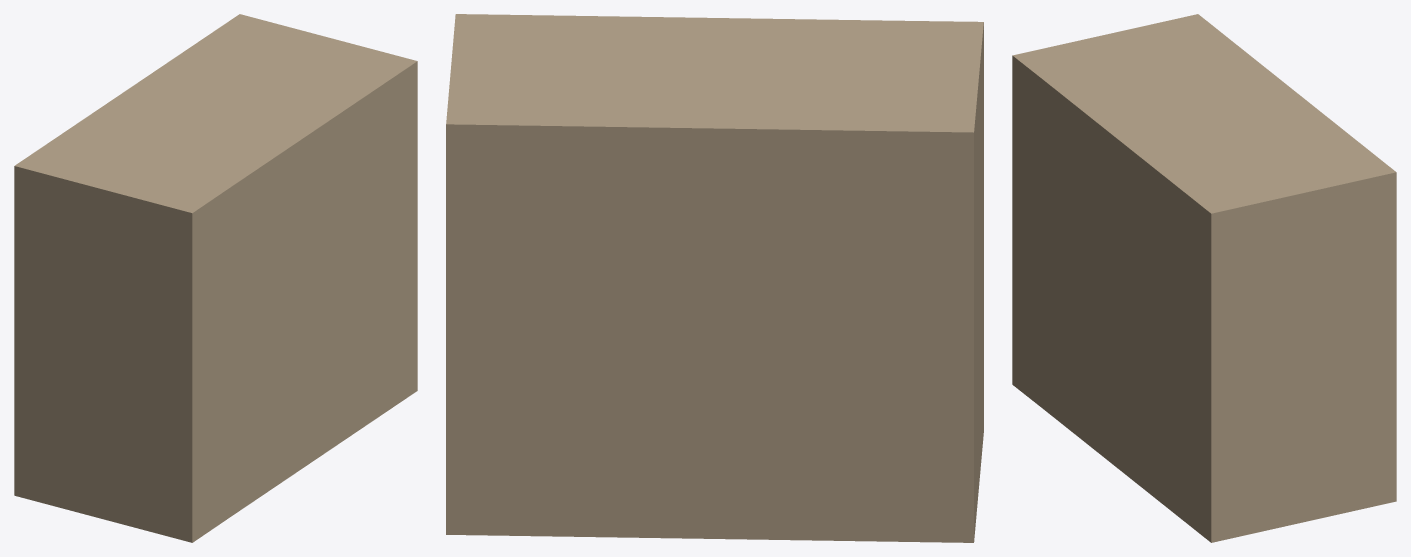
Rendered from bld_106415408.dae.
3 views of the same model, side by side, from view 1: azimuth 30°, elevation 25°; view 2: azimuth 150°, elevation 25°; view 3: azimuth 270°, elevation 25° (orthographic). The views are drawn at different scales.
Parts seen in each view (by area): view 1: bld_106415408; view 2: bld_106415408; view 3: bld_106415408.
Boxes of the visible parts, box(x1,y1,x2,y2) form: bld_106415408: box(14, 14, 417, 542); bld_106415408: box(446, 14, 983, 542); bld_106415408: box(1012, 14, 1396, 542).
Bounding box in the file's own units: 10.41 × 8.46 × 8.
